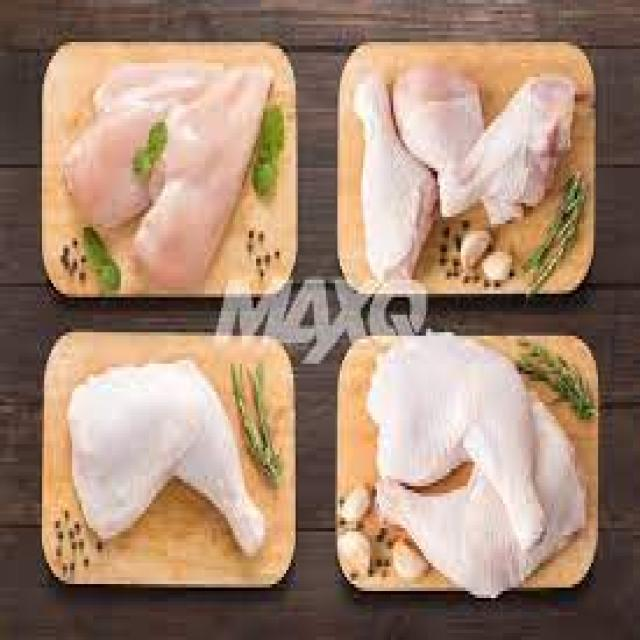chicken: (68, 56, 277, 276), (362, 393, 585, 594), (61, 357, 272, 566), (367, 326, 550, 554), (350, 72, 439, 287), (463, 72, 579, 223), (397, 57, 492, 185)
